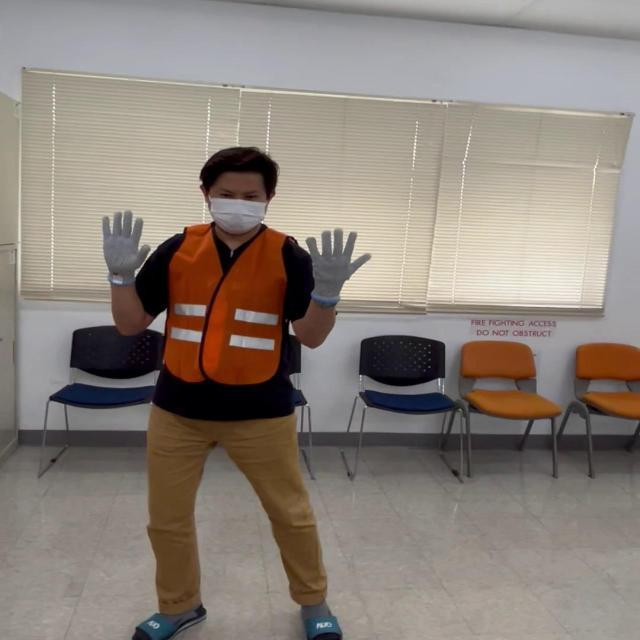gloved_hand: (300, 226, 372, 304), (100, 206, 150, 280)
